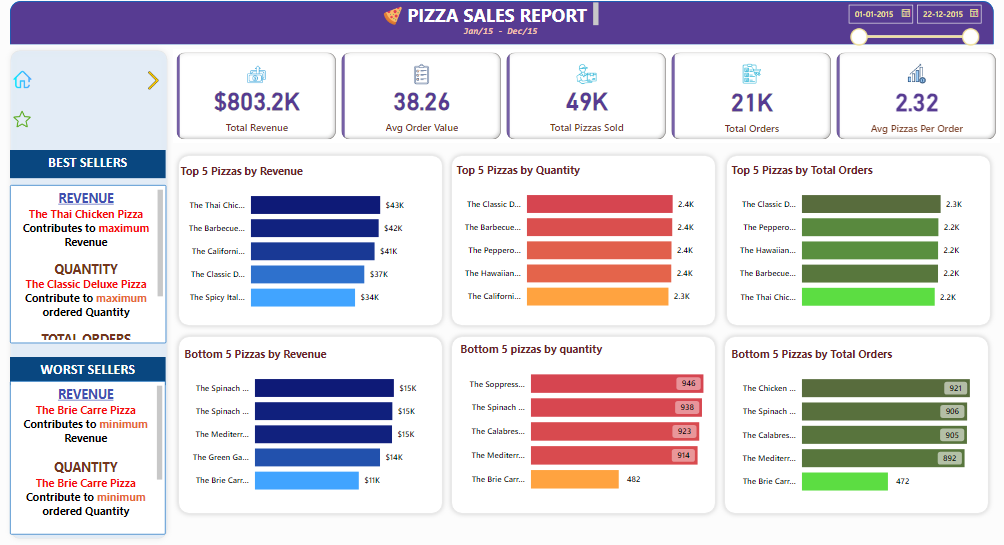

The dashboard page shown, as its layout file describes it:
{"tool":"powerbi","page":{"name":"Best/ Worst Sellers","canvas":[1500,820],"ordinal":1},"visuals":[{"type":"shape","box":[15.5,8.5,1466.6,65],"z":0},{"type":"textbox","box":[601.9,5.4,295.5,44.9],"z":1000},{"type":"image","box":[566.5,12.3,38.1,38.1],"z":2000},{"type":"textbox","box":[106,9.9,158.2,41],"z":3000},{"type":"textbox","box":[168.1,38.1,89,33.9],"z":4000},{"type":"slicer","fields":{"Values":["pizza_sales.order_date"]},"box":[1252.5,3.9,220.1,73.4],"z":5000},{"type":"textbox","box":[686.3,39.5,128,30],"z":6000},{"type":"shape","box":[7.2,74.5,250.1,744.2],"z":7000},{"type":"cardVisual","fields":{"Data":["pizza_sales.Total Revenue","pizza_sales.Avg Order Value","pizza_sales.Total Pizzas Sold","pizza_sales.Total Orders","pizza_sales.Avg Pizzas Per Order"]},"box":[257.5,79.8,1233.2,140.3],"z":8000},{"type":"textbox","box":[14.9,283.3,232.6,235.6],"z":9000},{"type":"textbox","box":[15.4,230.4,231.7,42.5],"z":10000},{"type":"textbox","box":[15.4,539.4,231.7,42.5],"z":11000},{"type":"textbox","box":[15.4,575.4,231.7,229.1],"z":12000},{"type":"image","box":[11.6,106.8,43.8,37.3],"z":13000},{"type":"image","box":[209.8,108.1,37.3,37.3],"z":14000},{"type":"image","box":[11.6,167.3,42.5,36],"z":15000},{"type":"shape","box":[257.9,231.1,410,270],"z":16000},{"type":"shape","box":[664.9,231.1,410,270],"z":17000},{"type":"shape","box":[1074.9,231.1,410,270],"z":18000},{"type":"shape","box":[257.9,500.9,410,280.3],"z":19000},{"type":"shape","box":[664.9,500.9,410,280.3],"z":20000},{"type":"shape","box":[1072,500.9,410,280.3],"z":21000},{"type":"barChart","title":"Top 5 Pizzas by Revenue","fields":{"Y":["pizza_sales.Total Revenue"],"Category":["pizza_sales.pizza_name"]},"box":[264.5,251.6,387.1,232.3],"z":22000},{"type":"barChart","title":"Top 5 Pizzas by Quantity","fields":{"Category":["pizza_sales.pizza_name"],"Y":["pizza_sales.Total Pizzas Sold"]},"box":[675.8,250,387.1,232.3],"z":23000},{"type":"barChart","title":"Bottom 5 pizzas by quantity","fields":{"Category":["pizza_sales.pizza_name"],"Y":["pizza_sales.Total Pizzas Sold"]},"box":[680.6,517.7,387.1,238.7],"z":24000},{"type":"barChart","title":"Bottom 5 Pizzas by Revenue","fields":{"Y":["pizza_sales.Total Revenue"],"Category":["pizza_sales.pizza_name"]},"box":[269.4,524.2,387.1,232.3],"z":25000},{"type":"barChart","title":"Top 5 Pizzas by Total Orders","fields":{"Category":["pizza_sales.pizza_name"],"Y":["pizza_sales.Total Orders"]},"box":[1085.4,250.5,387.6,232.6],"z":26000},{"type":"barChart","title":"Bottom 5 Pizzas by Total  Orders","fields":{"Category":["pizza_sales.pizza_name"],"Y":["pizza_sales.Total Orders"]},"box":[1085.5,524.2,387.1,233.9],"z":27000}]}

Visuals, with their boxes on the page's 1500x820 design canvas (x1, y1, x2, y2). These are canvas units, not pixel positions in the 1004x545 screenshot, which may show the page scaled, cropped or inside an application window:
shape: select_region(16, 8, 1482, 74)
textbox: select_region(602, 5, 897, 50)
image: select_region(566, 12, 605, 50)
textbox: select_region(106, 10, 264, 51)
textbox: select_region(168, 38, 257, 72)
slicer - pizza_sales.order_date: select_region(1252, 4, 1473, 77)
textbox: select_region(686, 40, 814, 70)
shape: select_region(7, 74, 257, 819)
cardVisual - pizza_sales.Total Revenue x pizza_sales.Avg Order Value: select_region(258, 80, 1491, 220)
textbox: select_region(15, 283, 248, 519)
textbox: select_region(15, 230, 247, 273)
textbox: select_region(15, 539, 247, 582)
textbox: select_region(15, 575, 247, 804)
image: select_region(12, 107, 55, 144)
image: select_region(210, 108, 247, 145)
image: select_region(12, 167, 54, 203)
shape: select_region(258, 231, 668, 501)
shape: select_region(665, 231, 1075, 501)
shape: select_region(1075, 231, 1485, 501)
shape: select_region(258, 501, 668, 781)
shape: select_region(665, 501, 1075, 781)
shape: select_region(1072, 501, 1482, 781)
"Top 5 Pizzas by Revenue" barChart: select_region(264, 252, 652, 484)
"Top 5 Pizzas by Quantity" barChart: select_region(676, 250, 1063, 482)
"Bottom 5 pizzas by quantity" barChart: select_region(681, 518, 1068, 756)
"Bottom 5 Pizzas by Revenue" barChart: select_region(269, 524, 656, 756)
"Top 5 Pizzas by Total Orders" barChart: select_region(1085, 250, 1473, 483)
"Bottom 5 Pizzas by Total  Orders" barChart: select_region(1086, 524, 1473, 758)
